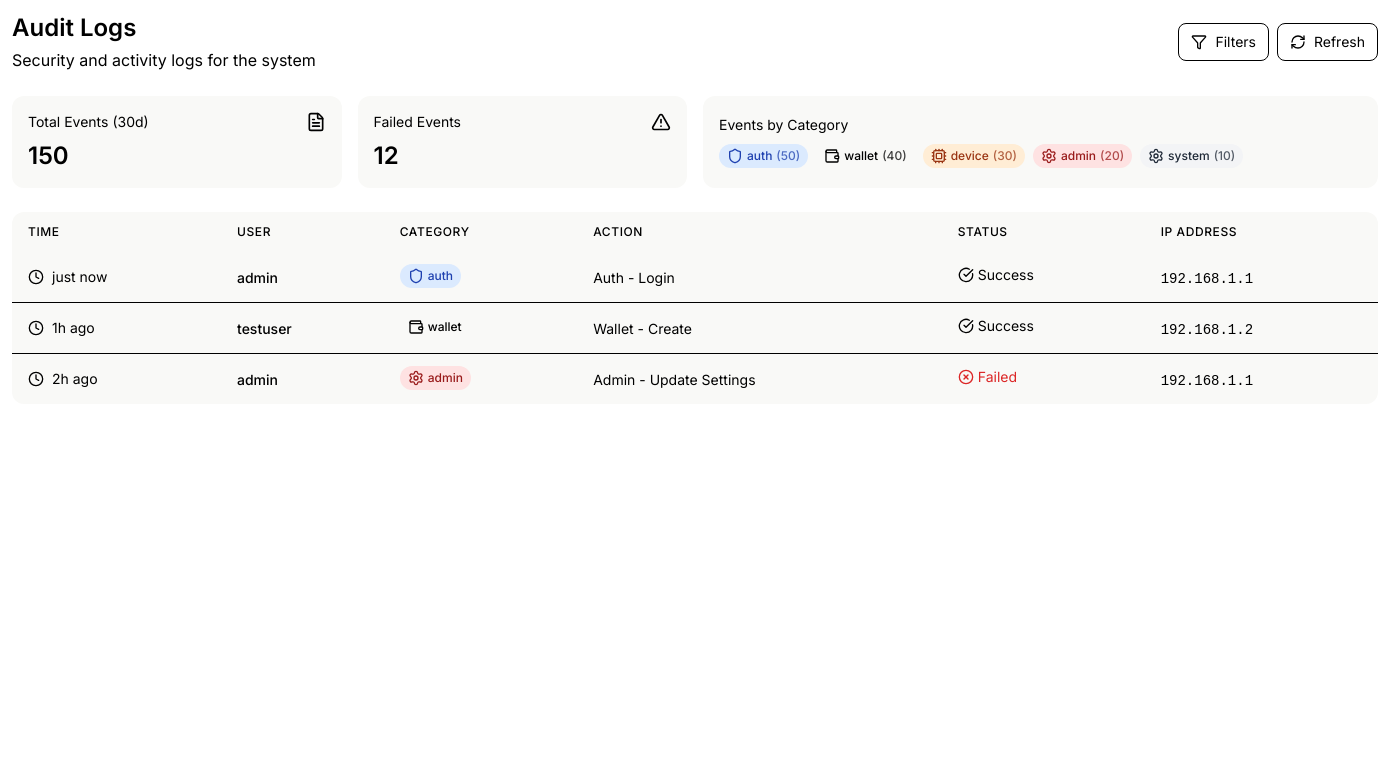
Test case: AuditLogs › filters › shows filter panel when clicking Filters
Click the button "Filters" at (1224, 42), box [1178,23,1269,61]
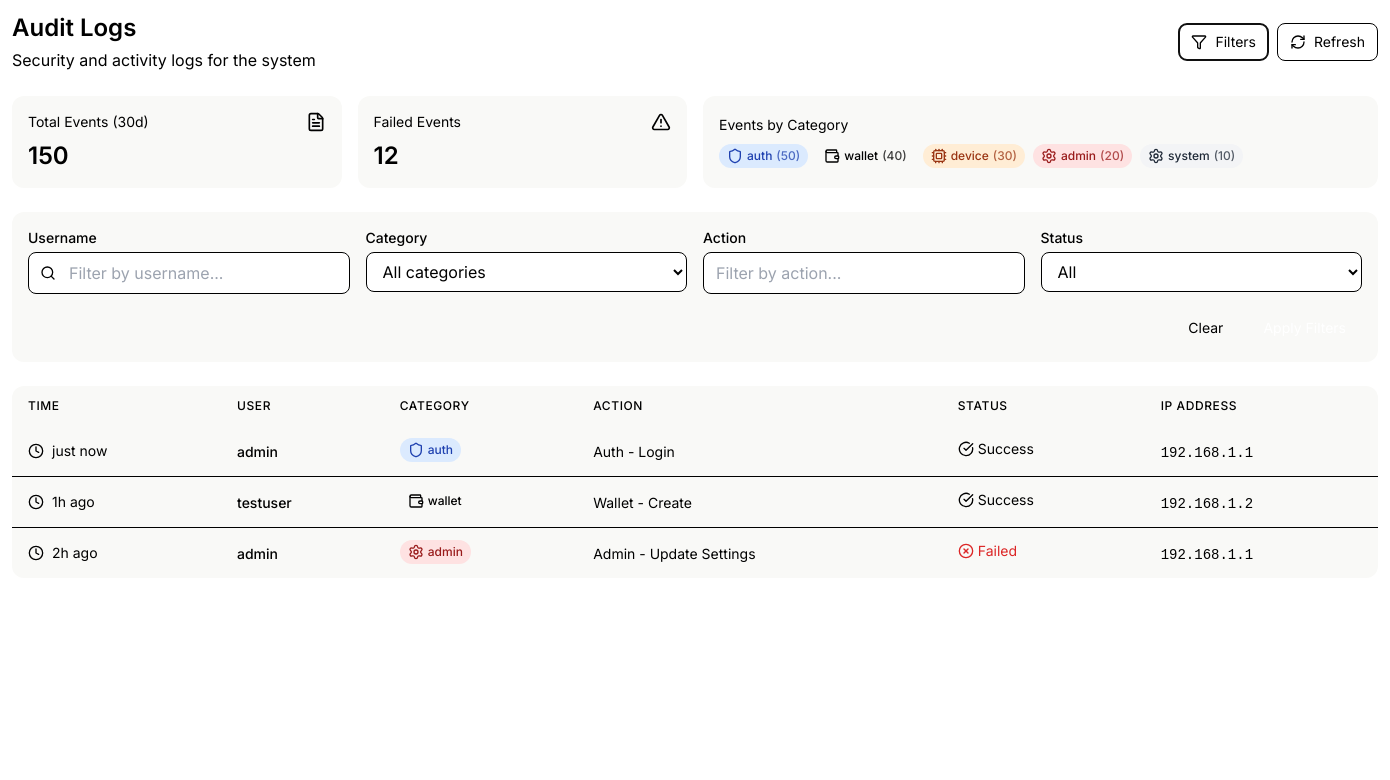
Now the field with placeholder "Filter by username..." is shown, box [28,252,350,294]
Now the text "Category" is shown, box [366,229,427,246]
